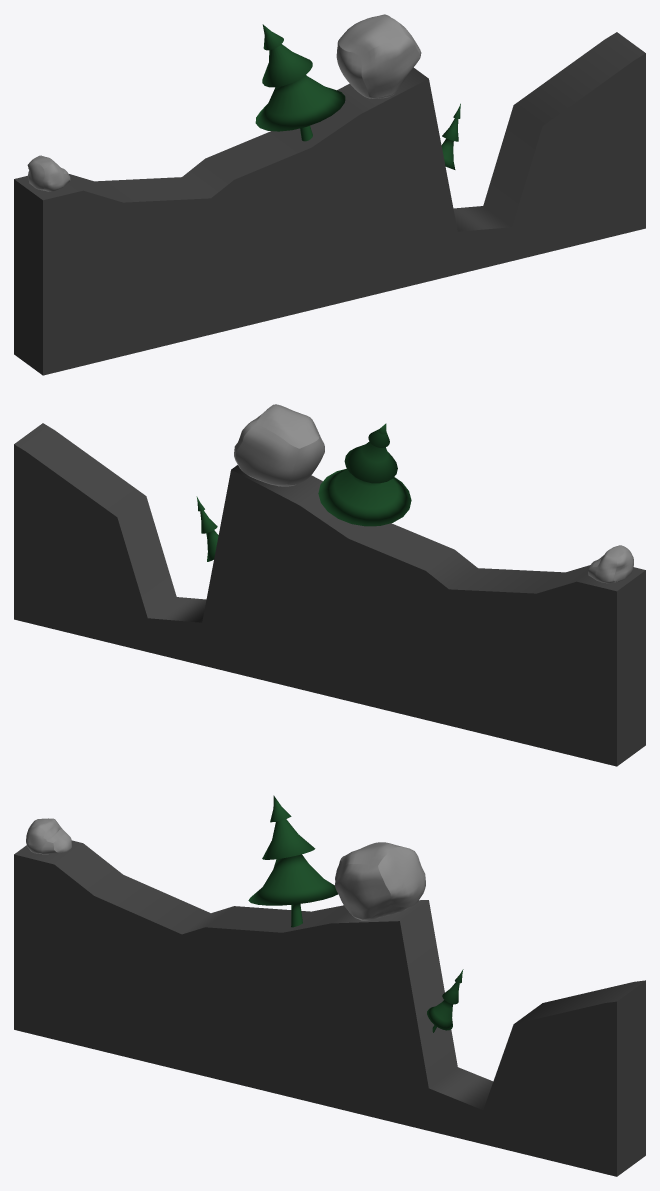
File: Chasm_R_1.fbx
3 views of the same model, one above another, from view 1: azimuth 30°, elevation 25°; view 2: azimuth 150°, elevation 25°; view 3: azimuth 330°, elevation 25° (orthographic).
Parts seen in each view (by area): view 1: pCube1, trees:pCylinder2, Cactus:pCube3, Cactus:pCube4, trees:pCylinder4; view 2: pCube1, trees:pCylinder2, Cactus:pCube3, Cactus:pCube4, trees:pCylinder4; view 3: pCube1, Cactus:pCube3, trees:pCylinder2, Cactus:pCube4, trees:pCylinder4.
Boxes of the visible parts, x1,y1,x2,y2 form: pCube1: (14,32,645,375); trees:pCylinder2: (255,24,345,141); Cactus:pCube3: (336,14,421,98); Cactus:pCube4: (27,155,70,191); trees:pCylinder4: (441,103,460,169); pCube1: (14,423,645,766); trees:pCylinder2: (318,423,411,526); Cactus:pCube3: (234,404,324,486); Cactus:pCube4: (588,545,633,583); trees:pCylinder4: (196,496,218,561); pCube1: (14,840,645,1176); Cactus:pCube3: (335,842,425,920); trees:pCylinder2: (248,795,337,927); Cactus:pCube4: (26,818,71,854); trees:pCylinder4: (427,969,463,1032).
Bounding box in the file's own units: 36 × 15.89 × 4.78.
